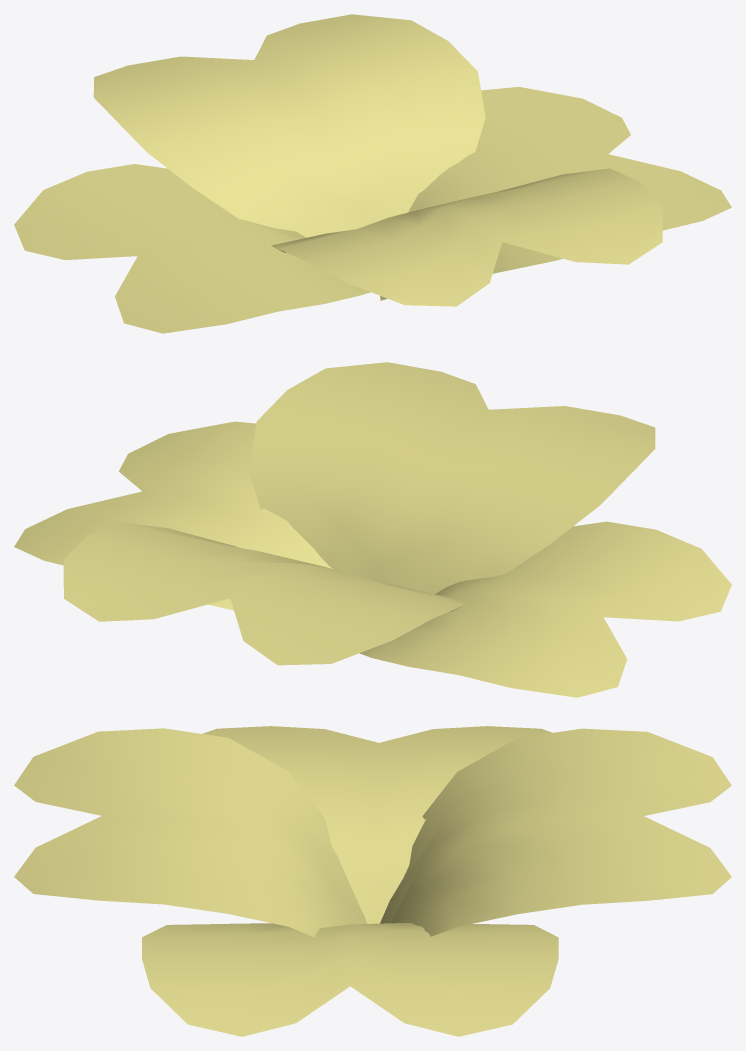
The model's file is Flower1.fbx.
The picture shows the model from 3 angles, top to bottom: view 1: azimuth 30°, elevation 25°; view 2: azimuth 150°, elevation 25°; view 3: azimuth 270°, elevation 25°; orthographic projection. The views are drawn at different scales.
Parts seen in each view (by area): view 1: pPlane38, pPlane37, pPlane40, pPlane39; view 2: pPlane40, pPlane37, pPlane38, pPlane39; view 3: pPlane40, pPlane38, pPlane39, pPlane37.
Boxes of the visible parts, left/top/right/bottom form: pPlane38: left=93, top=14, right=485, bottom=237; pPlane37: left=14, top=164, right=370, bottom=333; pPlane40: left=271, top=168, right=662, bottom=306; pPlane39: left=380, top=87, right=731, bottom=300; pPlane40: left=248, top=362, right=655, bottom=594; pPlane37: left=359, top=521, right=731, bottom=697; pPlane38: left=63, top=522, right=469, bottom=665; pPlane39: left=14, top=421, right=332, bottom=610; pPlane40: left=14, top=728, right=367, bottom=937; pPlane38: left=380, top=728, right=731, bottom=936; pPlane39: left=142, top=923, right=558, bottom=1036; pPlane37: left=202, top=726, right=552, bottom=923.
Bounding box in the file's own units: 1.21 × 0.2789 × 1.18.
